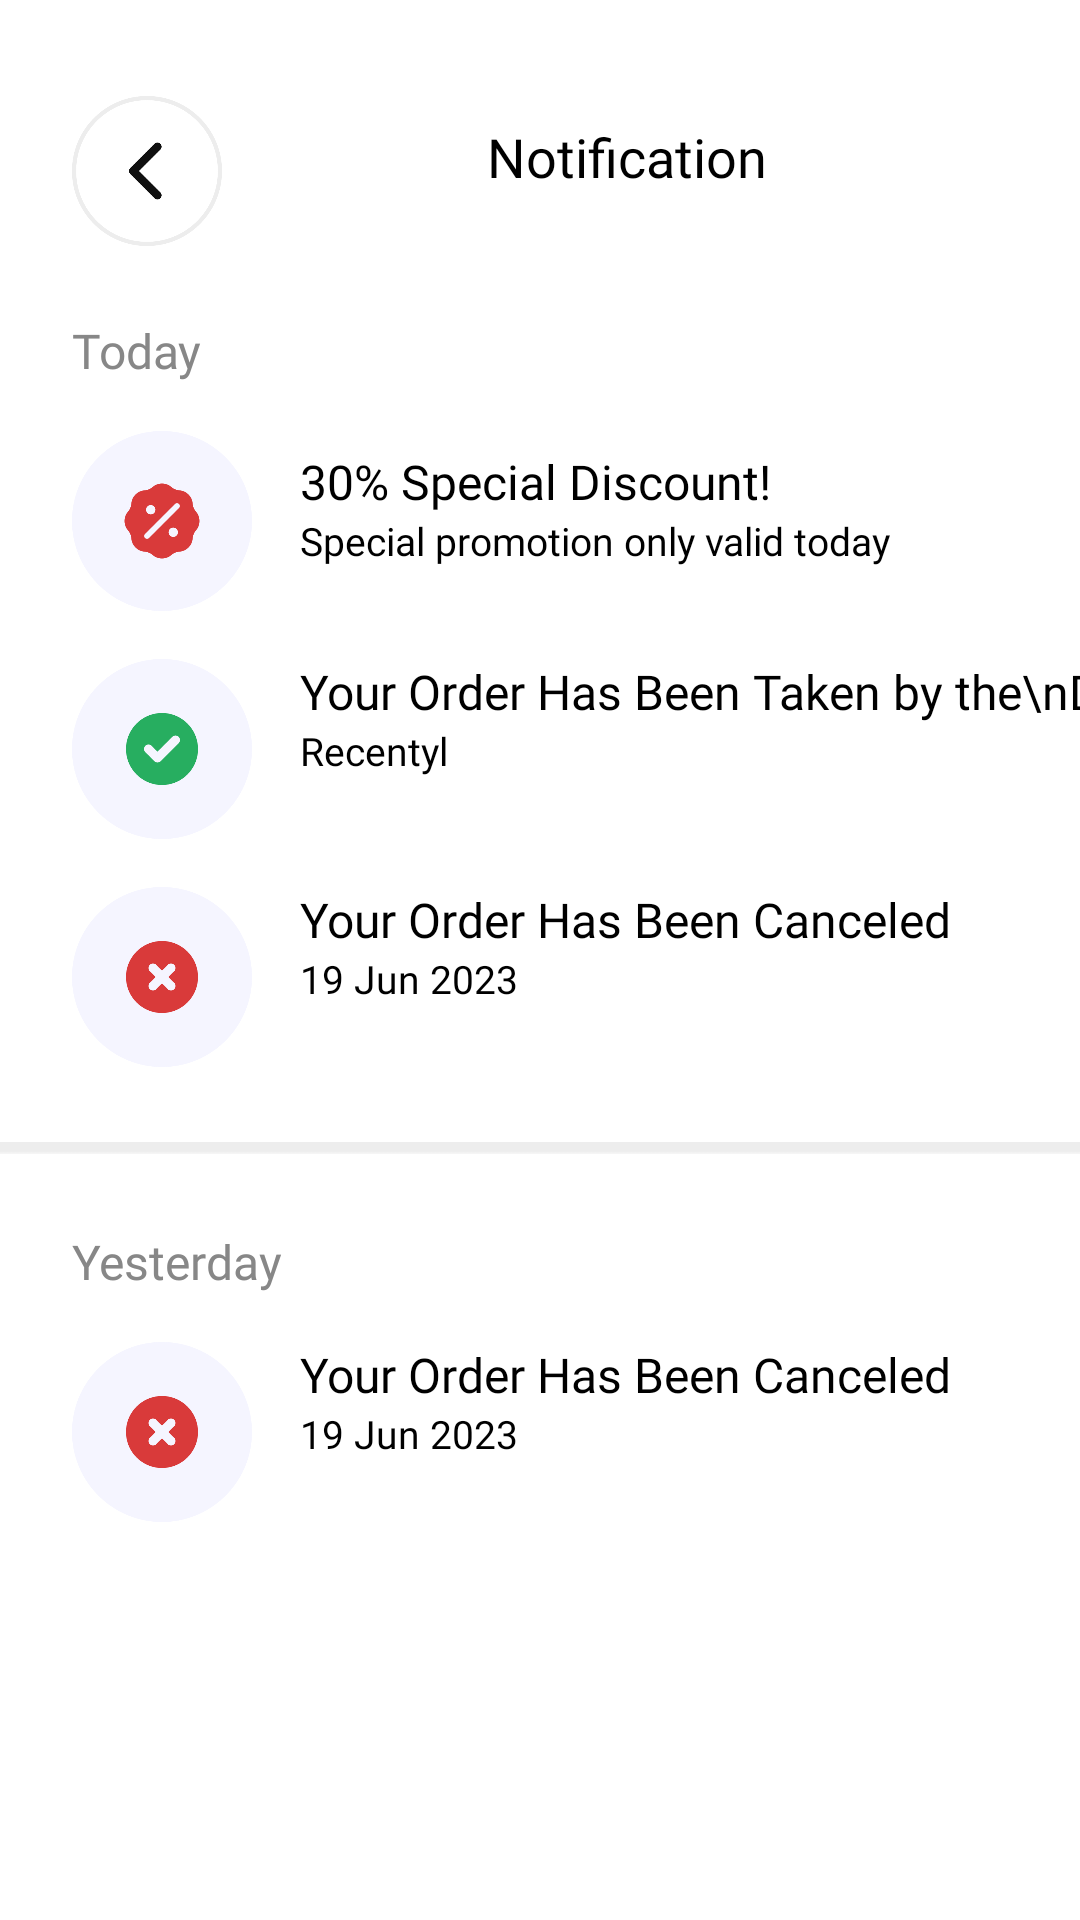

Screen size 1080×1920. Icon name, then its box in pixels as [left=x1, top=y1, right=x2, bottom=y2]:
back: [left=129, top=142, right=162, bottom=200]
